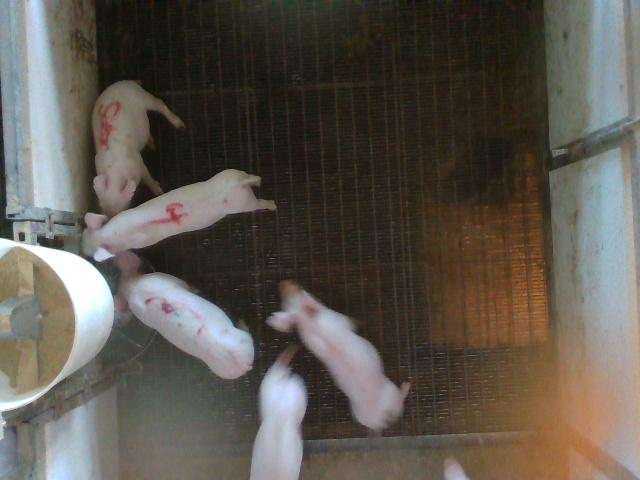pig-3: (112, 251, 252, 378)
pig-4: (82, 169, 276, 261)
pig-5: (92, 80, 184, 217)
